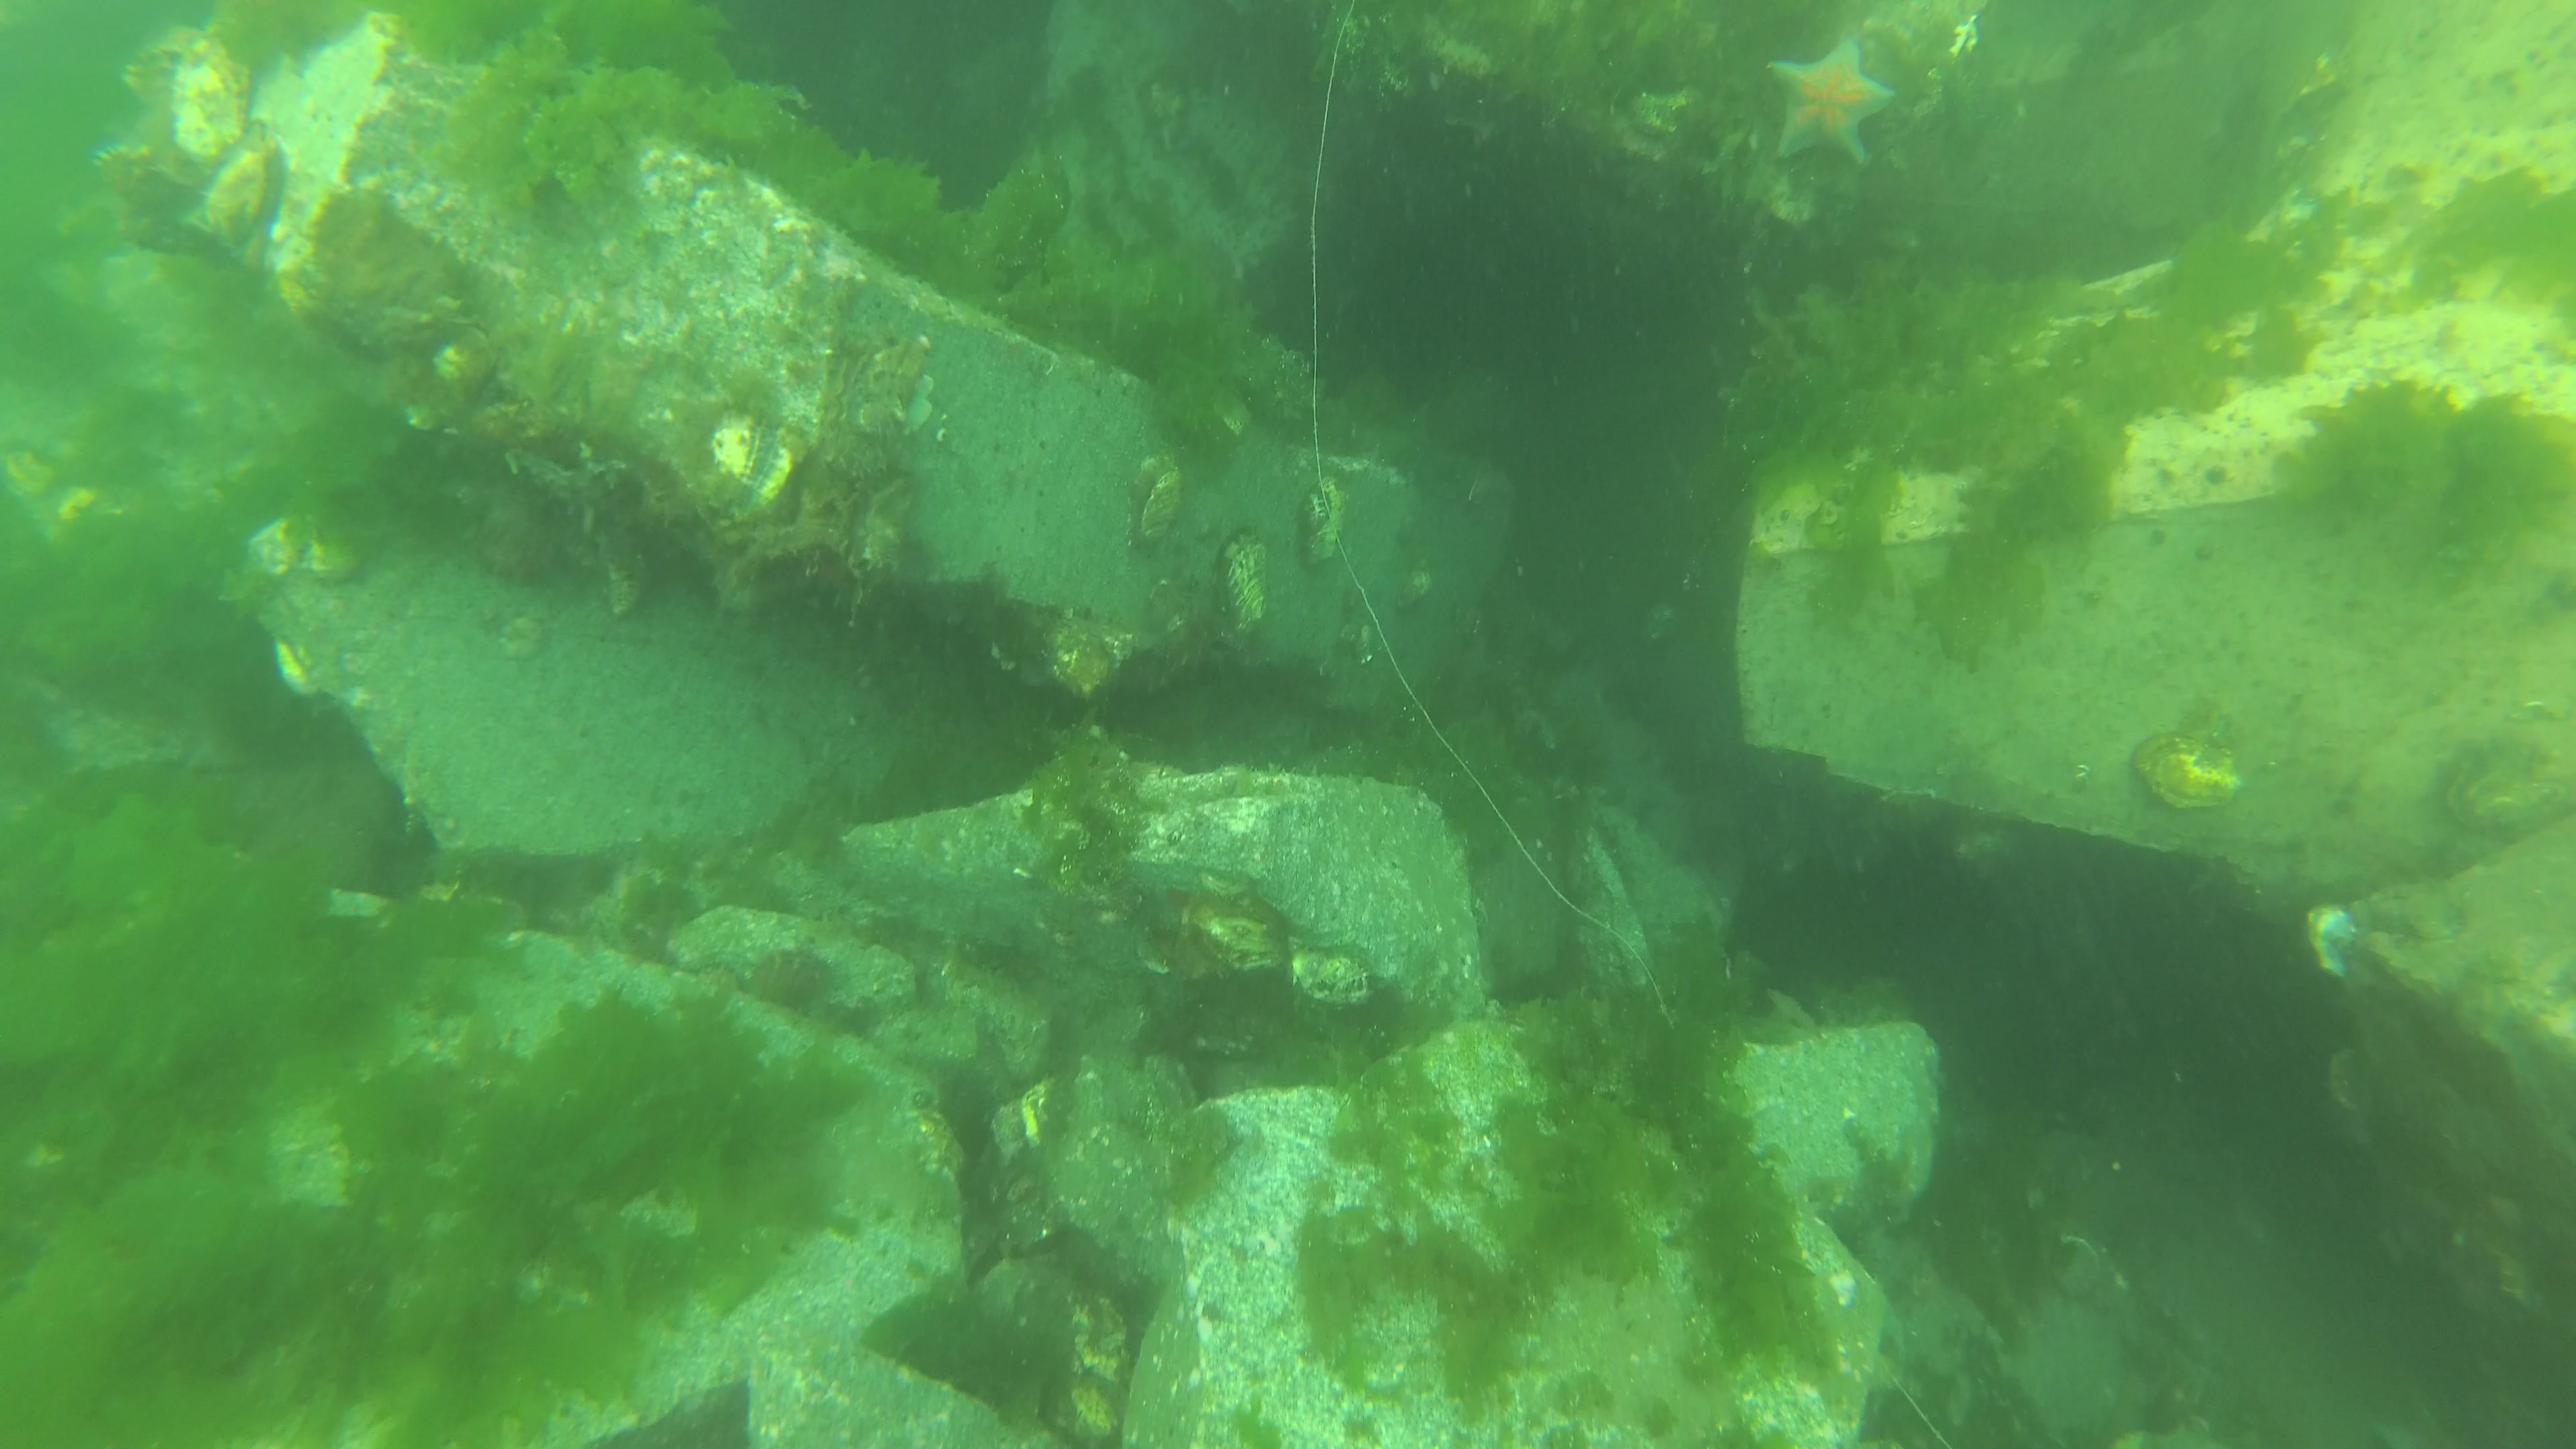starfish: (1762, 34, 1905, 168)
